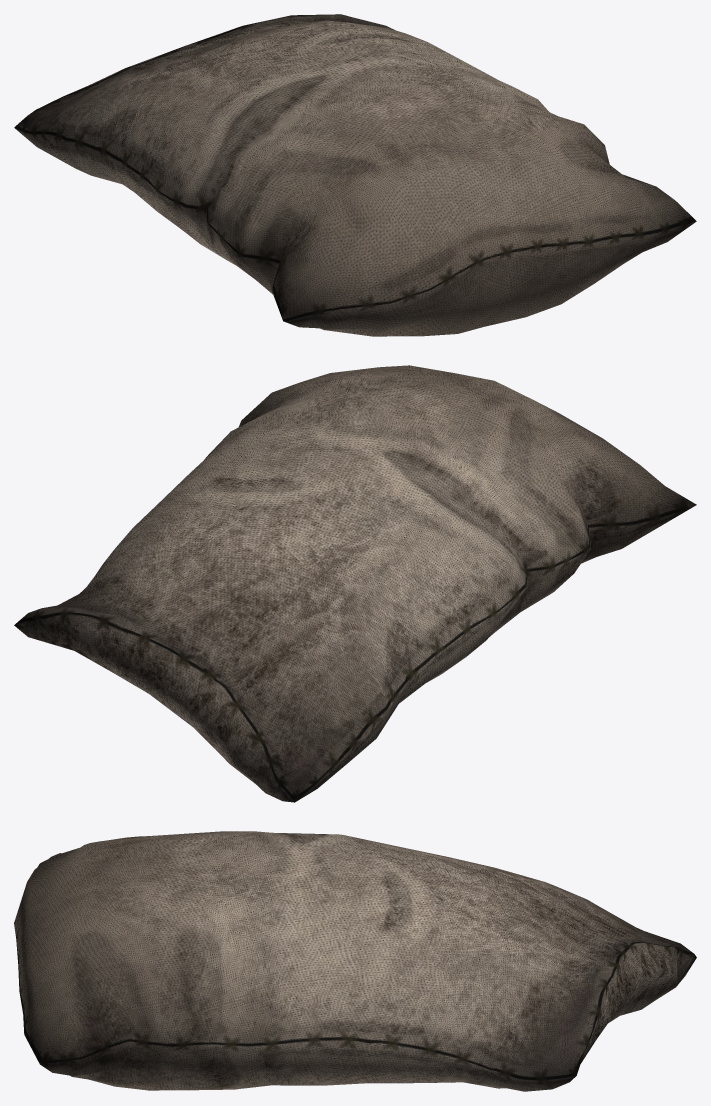
Rendered from pouch.glb.
3 views of the same model, one above another, from view 1: azimuth 30°, elevation 25°; view 2: azimuth 150°, elevation 25°; view 3: azimuth 270°, elevation 25° (orthographic). The views are drawn at different scales.
Visible parts, largest first — view 1: trn_FlourSack; view 2: trn_FlourSack; view 3: trn_FlourSack.
Boxes of the visible parts, left/top/right/bottom form: trn_FlourSack: left=14, top=14, right=696, bottom=336; trn_FlourSack: left=14, top=365, right=696, bottom=802; trn_FlourSack: left=14, top=831, right=696, bottom=1091.
Size of the model in its own units: 0.4825 by 0.2272 by 0.6964.
Materials: 1 (1 with a texture image).
